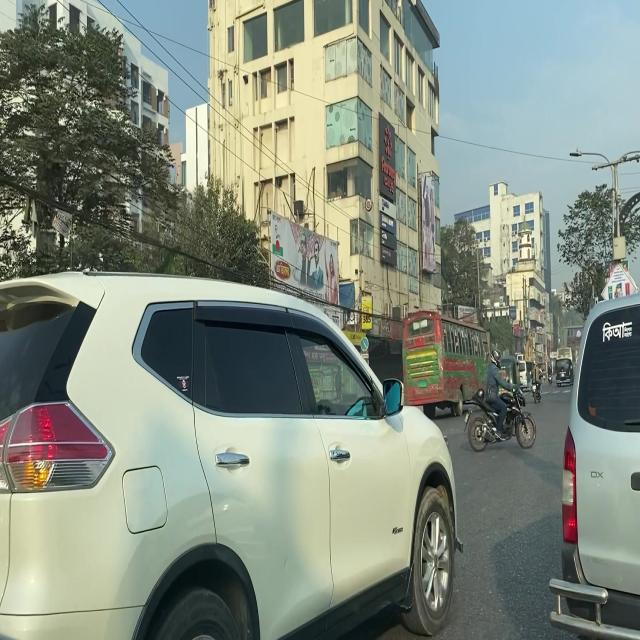car: (0, 264, 465, 640), (548, 284, 640, 639)
motorbike: (462, 382, 537, 453), (530, 368, 545, 406), (547, 362, 554, 387)
